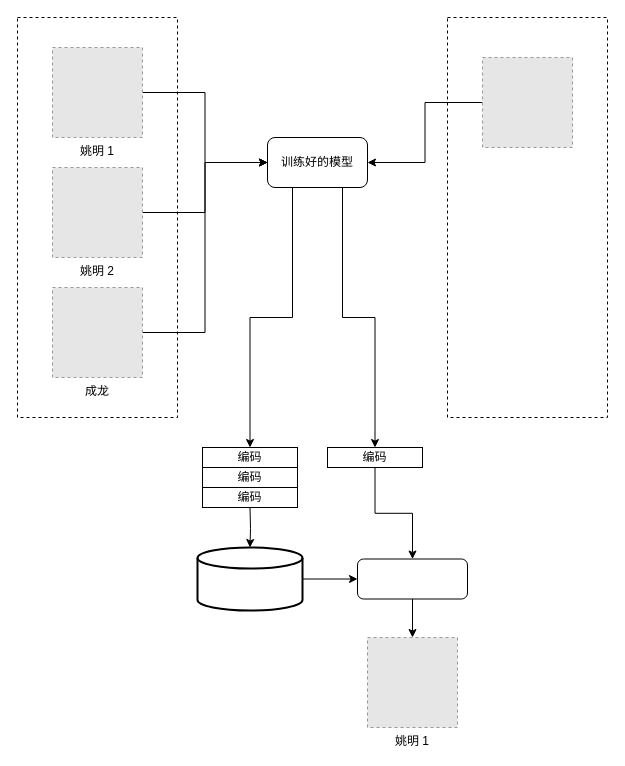
Image size: 625x766. Some labels were removed from this diagram. Grey dashed boxes stand in for pictures. Here are the shapes that lost their labels. From the top down, the box of each, then its label:
(16, 16, 178, 418): 已知人物
(446, 16, 608, 418): 未知人物
(196, 546, 303, 611): 人脸编码数据库
(356, 558, 468, 599): 比对编码找出 最接近的人脸
